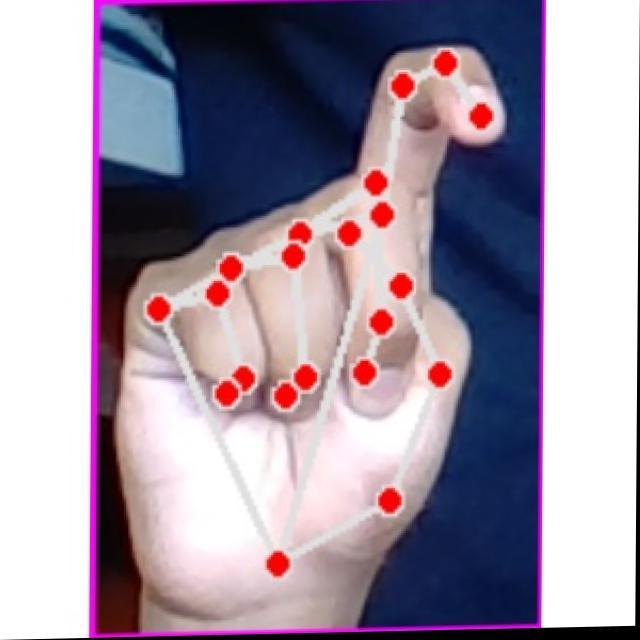Z: (114, 36, 524, 609)
